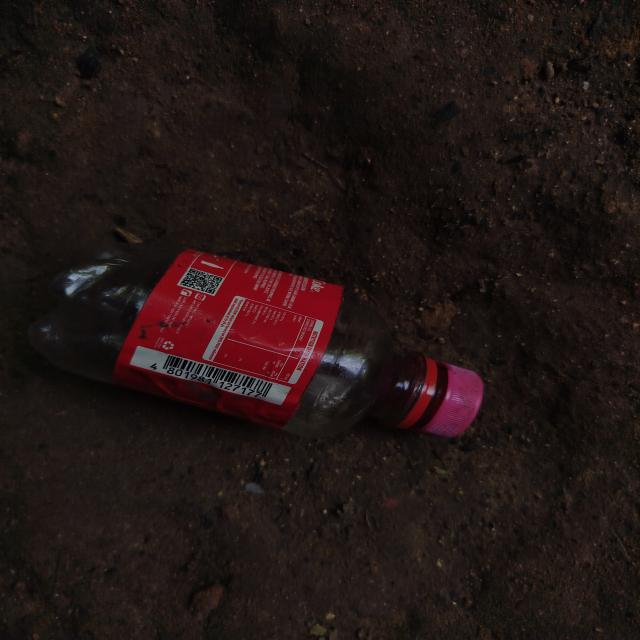plastic: (19, 228, 516, 487)
